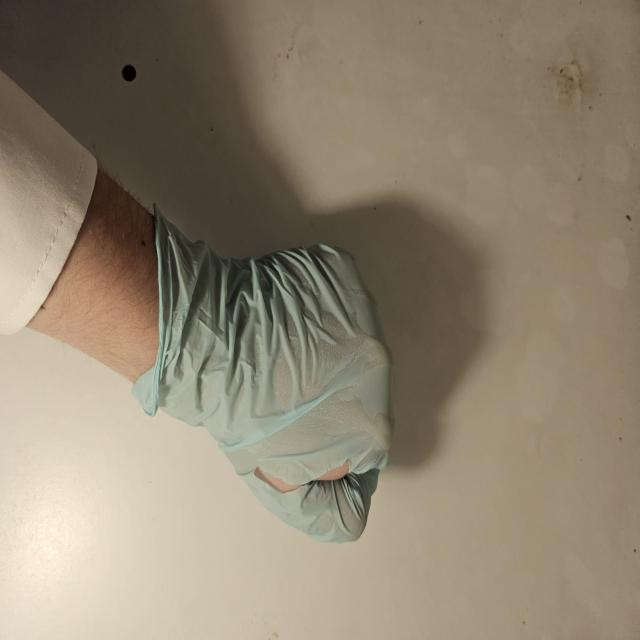gloves_damaged: (130, 198, 399, 552)
